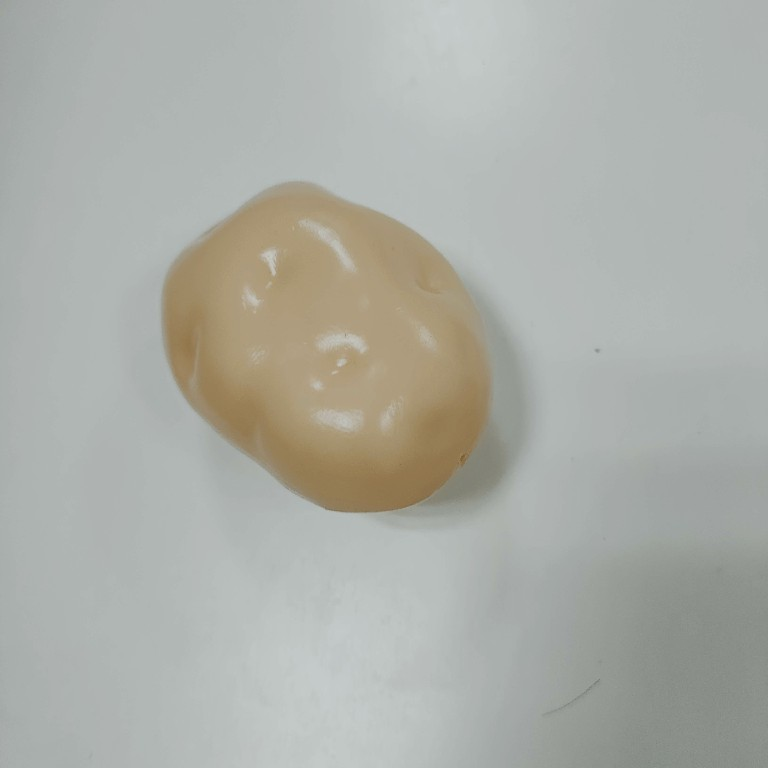fruit_potato: (156, 176, 494, 518)
